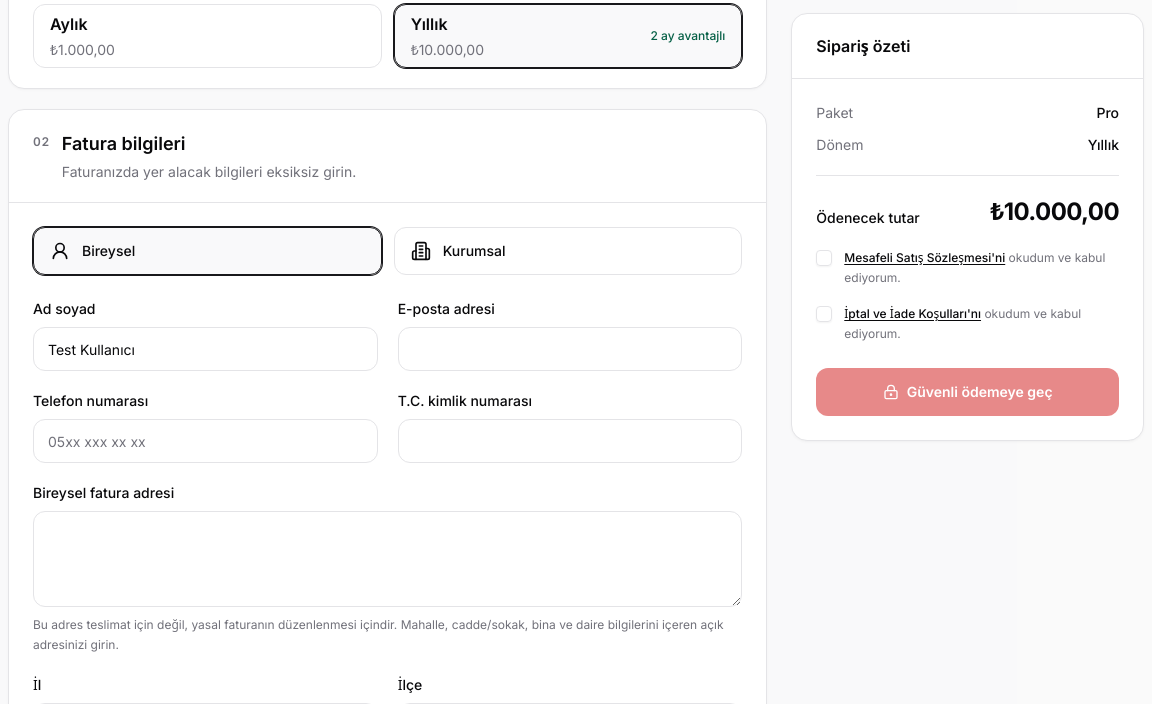
it: checkout flow › saves the order and posts a card-free form to the bank after agreement approval
Earlier steps of the test are not shown.
Later steps or results of the test are not shown.
(page scrolled)
Type "test@example.com" into the field labelled "E-posta adresi".
click(570, 349); type("test@example.com")  # box [398,327,742,371]
Type "05555555555" into the field labelled "Telefon numarası".
click(205, 441); type("05555555555")  # box [33,419,378,463]
Type "11111111111" into the field labelled "T.C. kimlik numarası".
click(570, 441); type("11111111111")  # box [398,419,742,463]
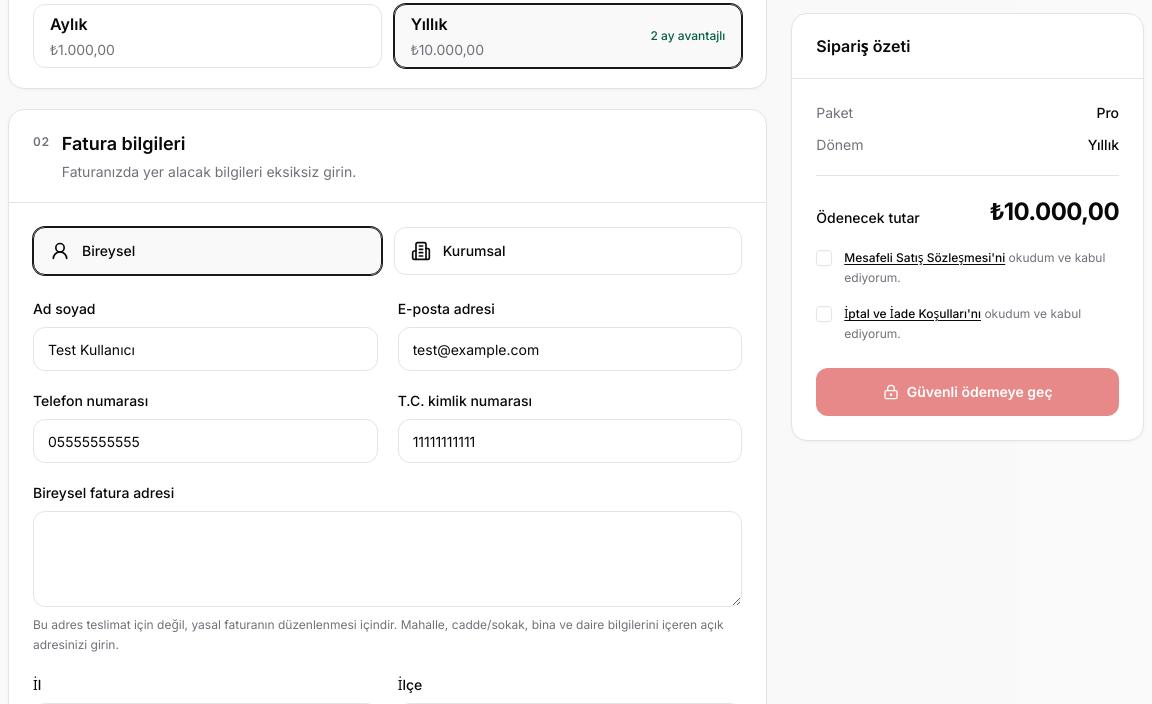
Type "Test Mahallesi No: 1" into the text box labelled "Bireysel fatura adresi".
click(388, 559); type("Test Mahallesi No: 1")  # box [33,511,742,607]
(page scrolled)
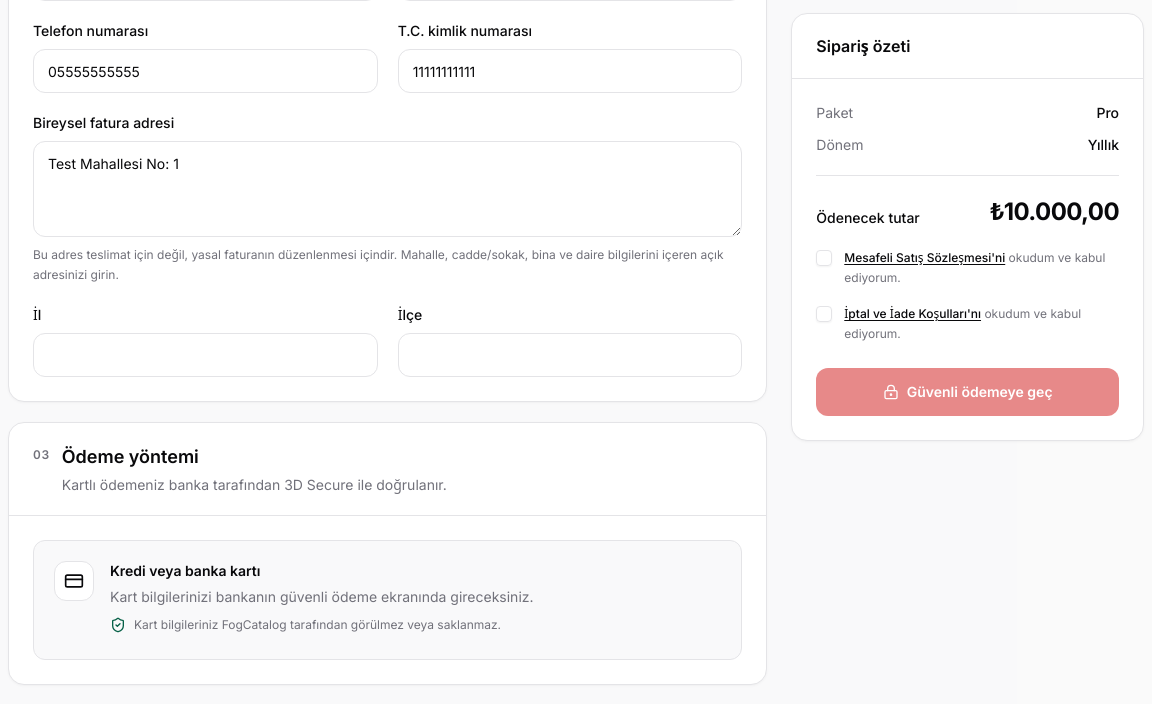
Type "Bursa" into the field labelled "İl".
click(205, 355); type("Bursa")  # box [33,333,378,377]
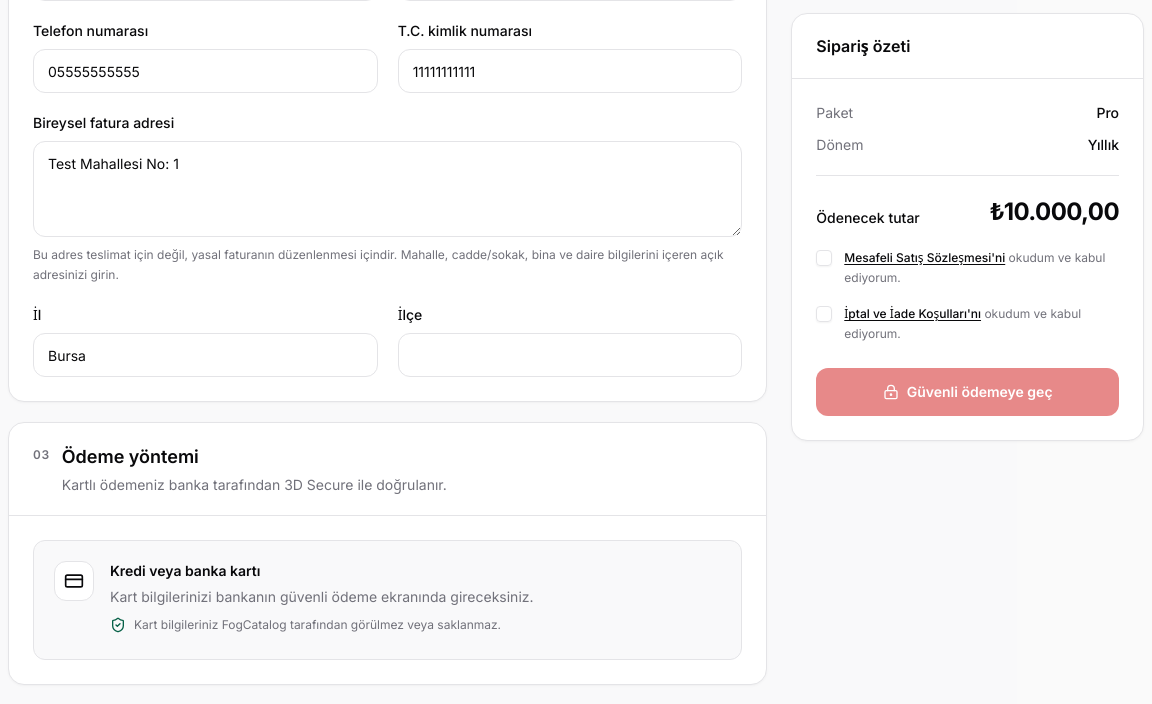
Type "Nilüfer" into the field labelled "İlçe".
click(570, 355); type("Nilüfer")  # box [398,333,742,377]
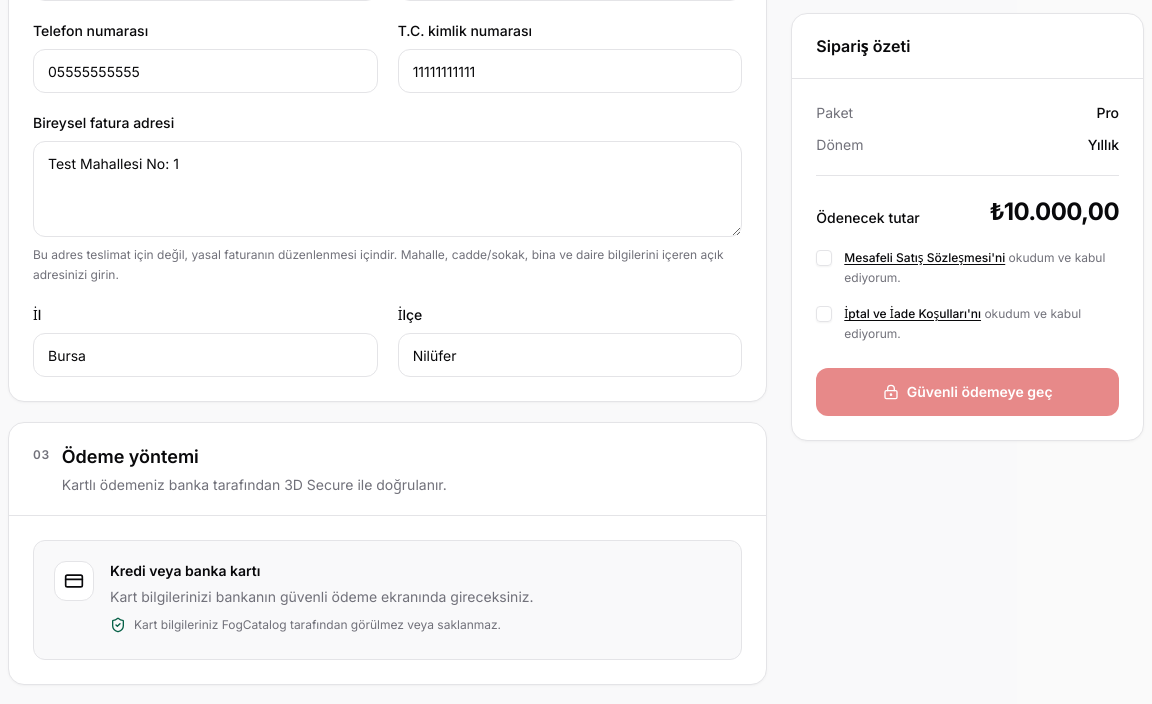
Click the checkbox named "Mesafeli Satış Sözleşmesi" next to "Mesafeli Satış Sözleşmesi'ni".
click(824, 258)  # box [816,250,832,266]
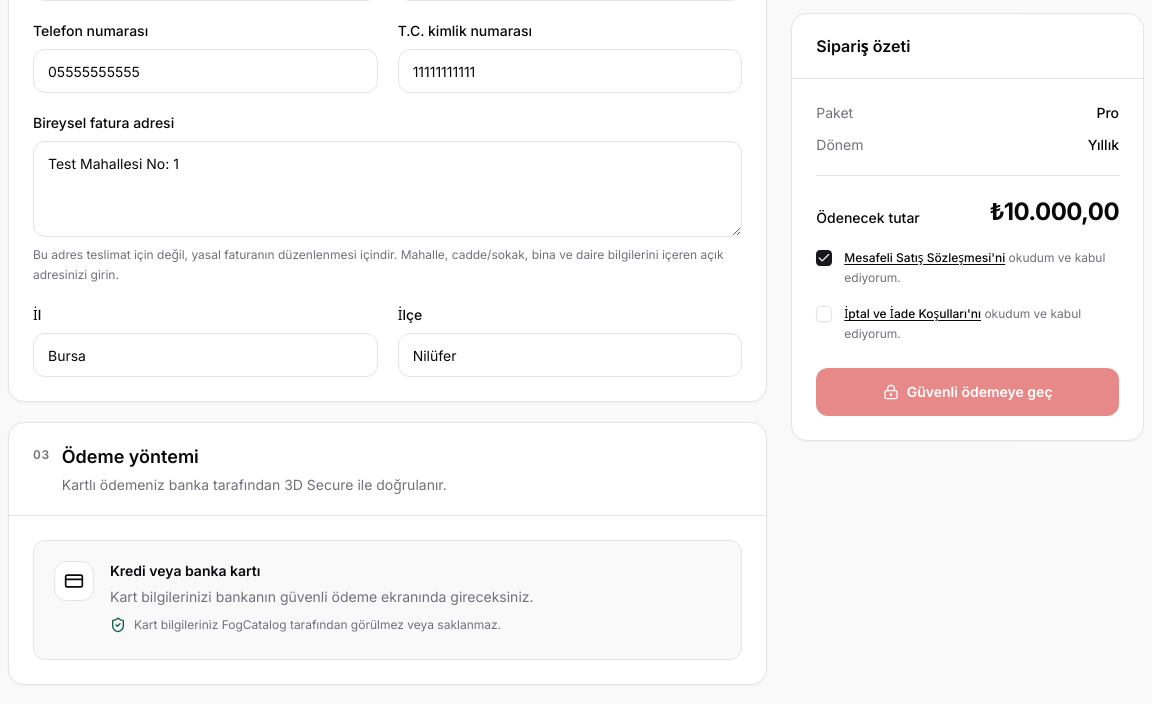
Click the checkbox named "İptal ve İade Koşulları" next to "İptal ve İade Koşulları'nı".
click(824, 314)  # box [816,306,832,322]
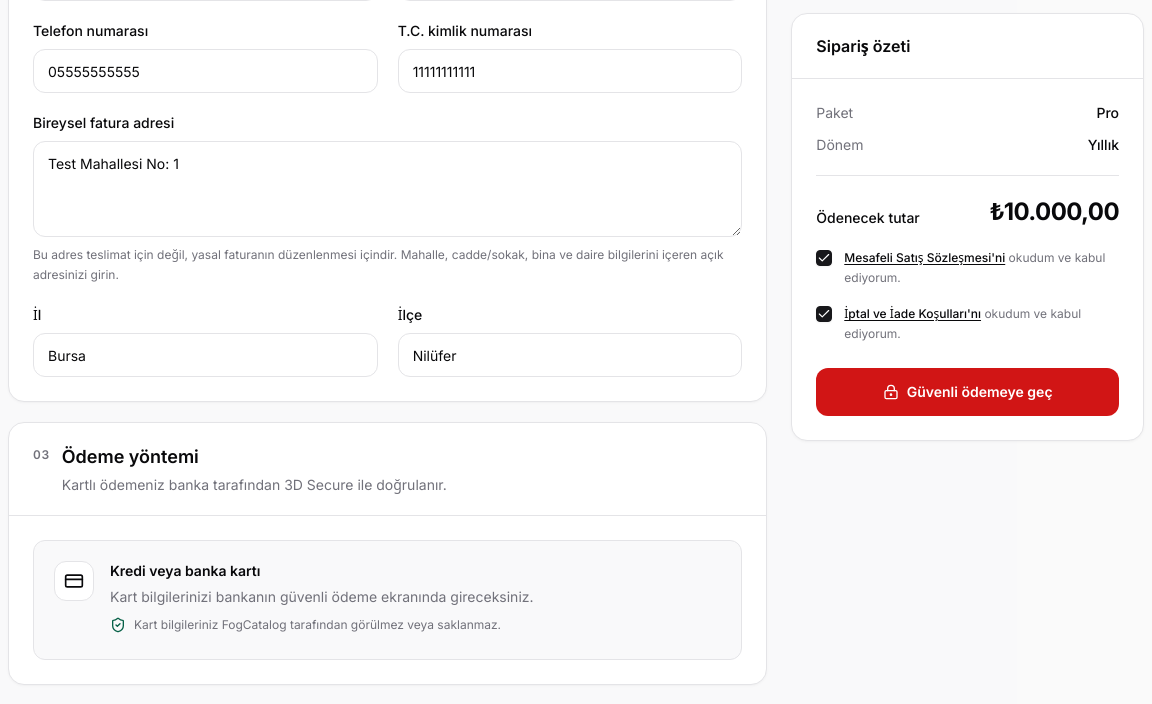
Expected: the button "Güvenli ödemeye geç" is enabled, [816,368,1119,416]
